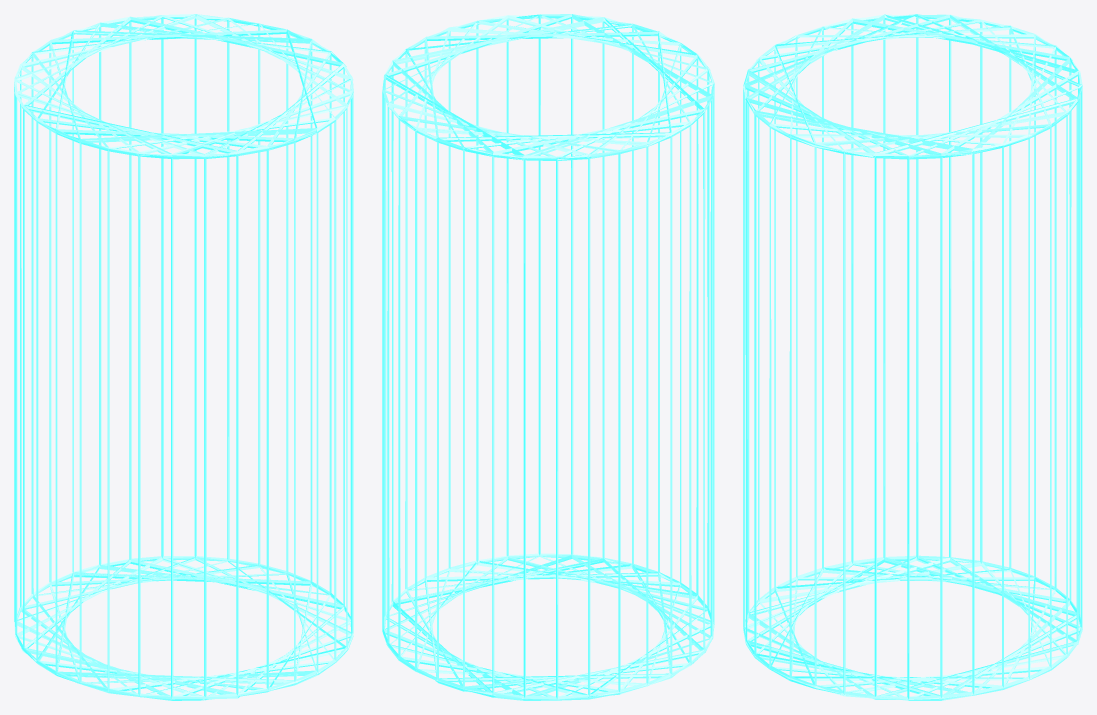
3 views of the same model, side by side, from view 1: azimuth 30°, elevation 25°; view 2: azimuth 150°, elevation 25°; view 3: azimuth 270°, elevation 25° (orthographic).
Parts seen in each view (by area): view 1: 立方体; view 2: 立方体; view 3: 立方体.
Part boxes in pixels (x1,y1,x2,y2): 立方体: [14, 14, 353, 700]; 立方体: [382, 14, 714, 700]; 立方体: [743, 14, 1082, 700].
Bounding box in the file's own units: 17.12 × 30.74 × 17.29.
